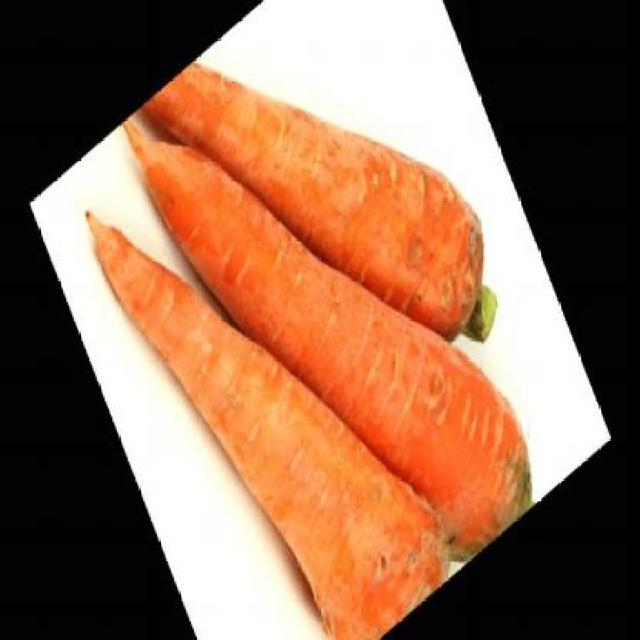carrot: (119, 0, 546, 638), (80, 53, 462, 639), (123, 0, 509, 503)
